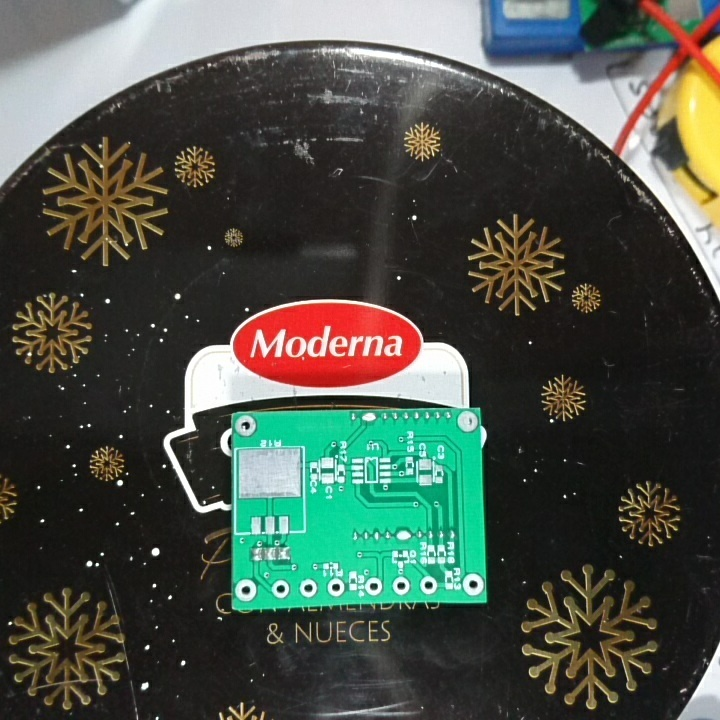F: (234, 577, 260, 605), (297, 575, 321, 601), (460, 572, 484, 598), (268, 578, 295, 601), (415, 574, 439, 598), (456, 410, 479, 435), (390, 575, 413, 598), (325, 576, 347, 599), (234, 415, 258, 436), (363, 575, 383, 598)
P: (395, 527, 412, 545), (359, 411, 378, 425)
